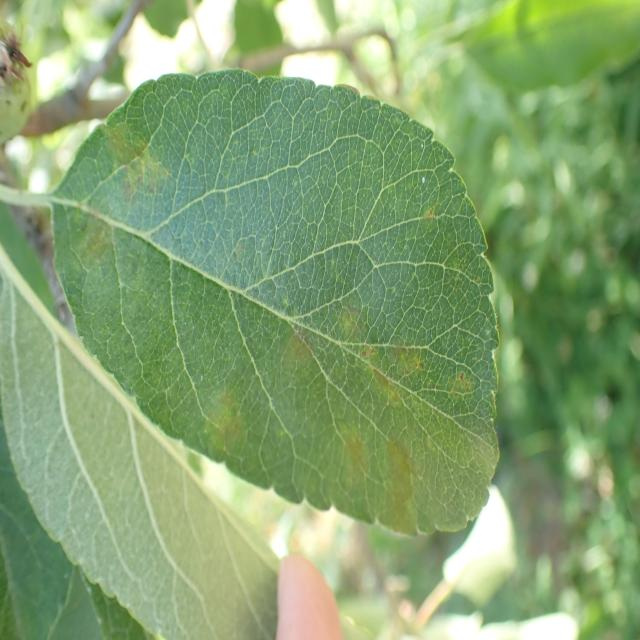scab: (48, 107, 490, 525)
